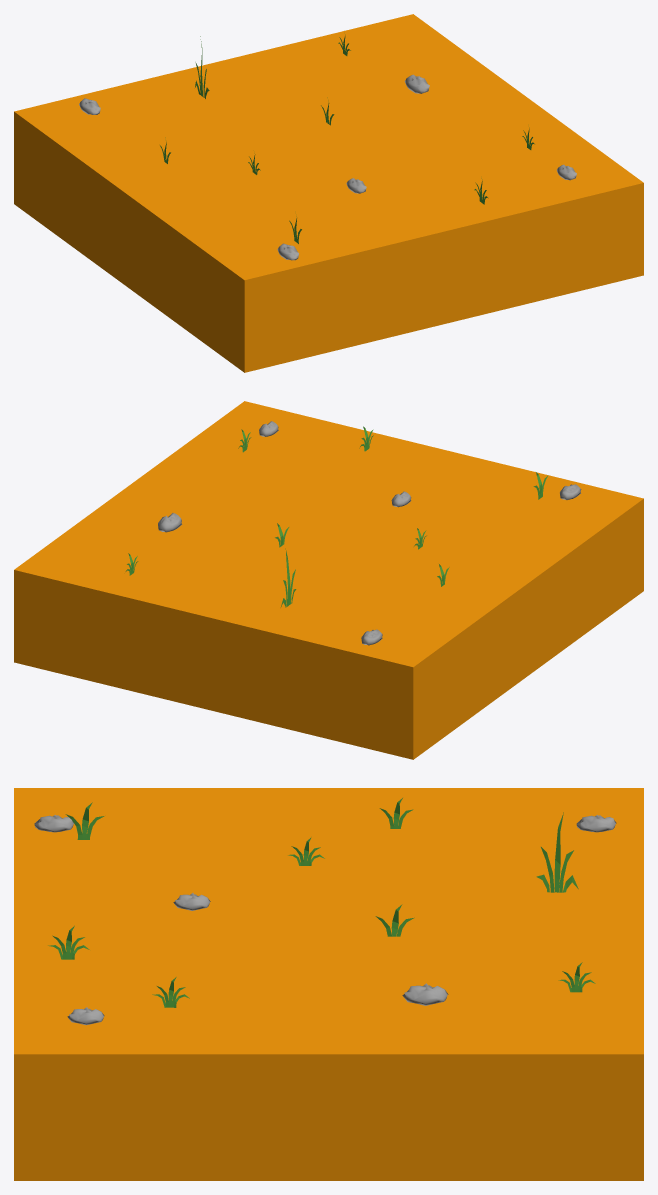
File: ground.fbx
3 renders of one model, top to bottom at view 1: azimuth 30°, elevation 25°; view 2: azimuth 150°, elevation 25°; view 3: azimuth 270°, elevation 25°, orthographic. The views are drawn at different scales.
Visible parts, largest first — view 1: paisaje; view 2: paisaje; view 3: paisaje.
Part boxes in pixels (<box>): paisaje: <box>14,14,643,372</box>; paisaje: <box>14,401,643,759</box>; paisaje: <box>14,788,643,1180</box>.
Size of the model in its own units: 2760 by 1001 by 2760.
Materials: 1 (1 with a texture image).
